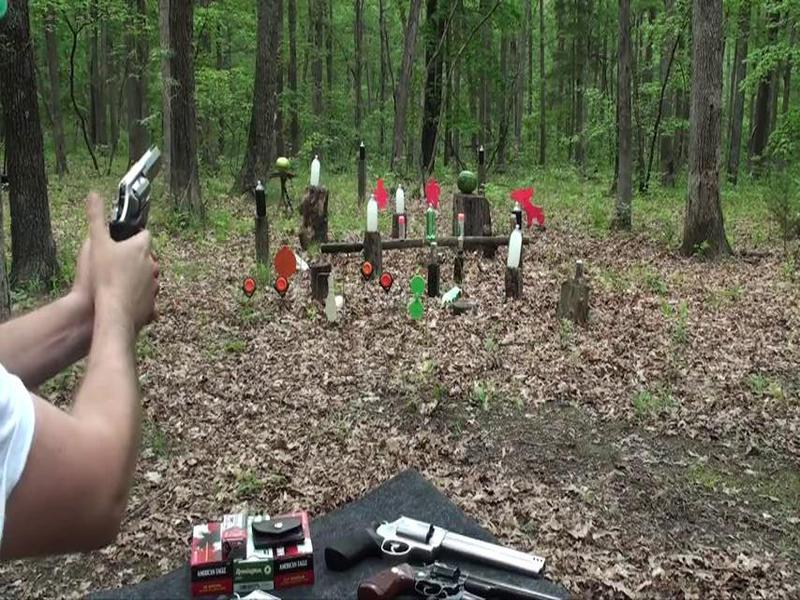Revolver: (95, 138, 194, 271)
